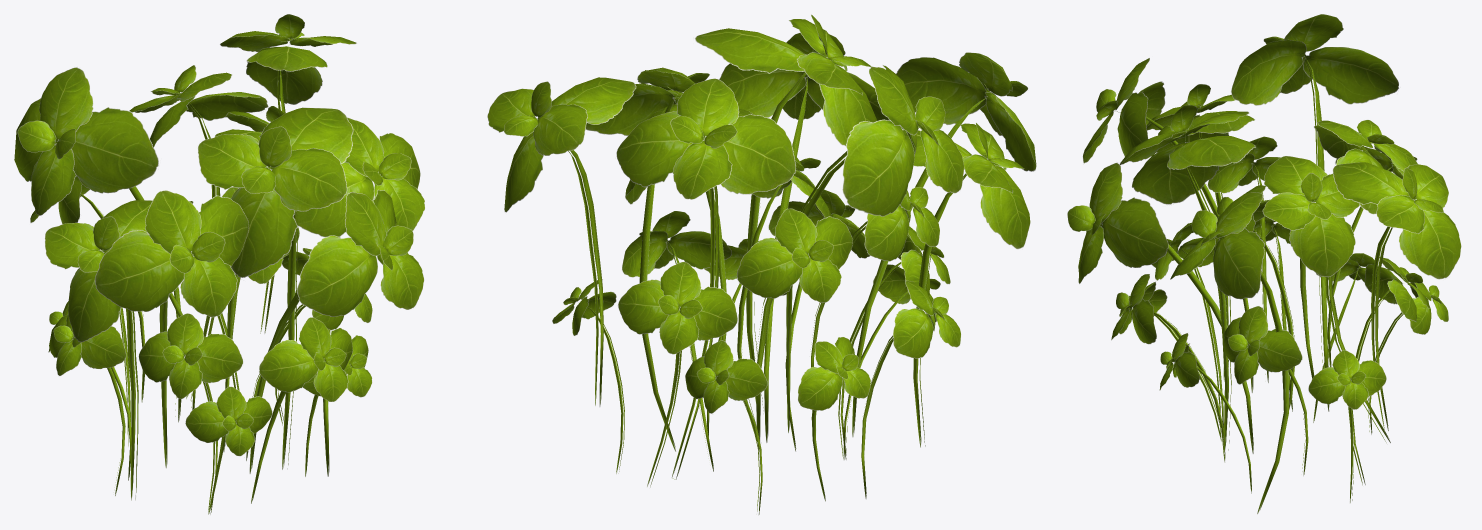
Rendered from basil.glb.
3 views of the same model, side by side, from view 1: azimuth 30°, elevation 25°; view 2: azimuth 150°, elevation 25°; view 3: azimuth 270°, elevation 25° (orthographic). The views are drawn at different scales.
Parts seen in each view (by area): view 1: Object_5, Object_4, Object_6, Object_7; view 2: Object_5, Object_6, Object_4, Object_7; view 3: Object_4, Object_5, Object_6, Object_7.
Boxes of the visible parts, x1,y1,x2,y2 form: Object_5: [14, 14, 372, 500]; Object_4: [138, 106, 372, 514]; Object_6: [30, 65, 425, 514]; Object_7: [95, 190, 248, 468]; Object_5: [487, 65, 1030, 514]; Object_6: [585, 33, 940, 479]; Object_4: [552, 14, 950, 487]; Object_7: [852, 52, 1036, 437]; Object_4: [1111, 105, 1429, 503]; Object_5: [1146, 14, 1461, 493]; Object_6: [1067, 119, 1417, 514]; Object_7: [1082, 58, 1253, 392].
Size of the model in its own units: 0.2941 by 0.2925 by 0.264.
1 material, 1 textured.
